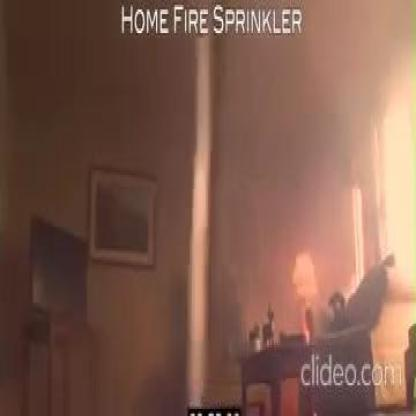fire: (305, 321, 310, 343)
